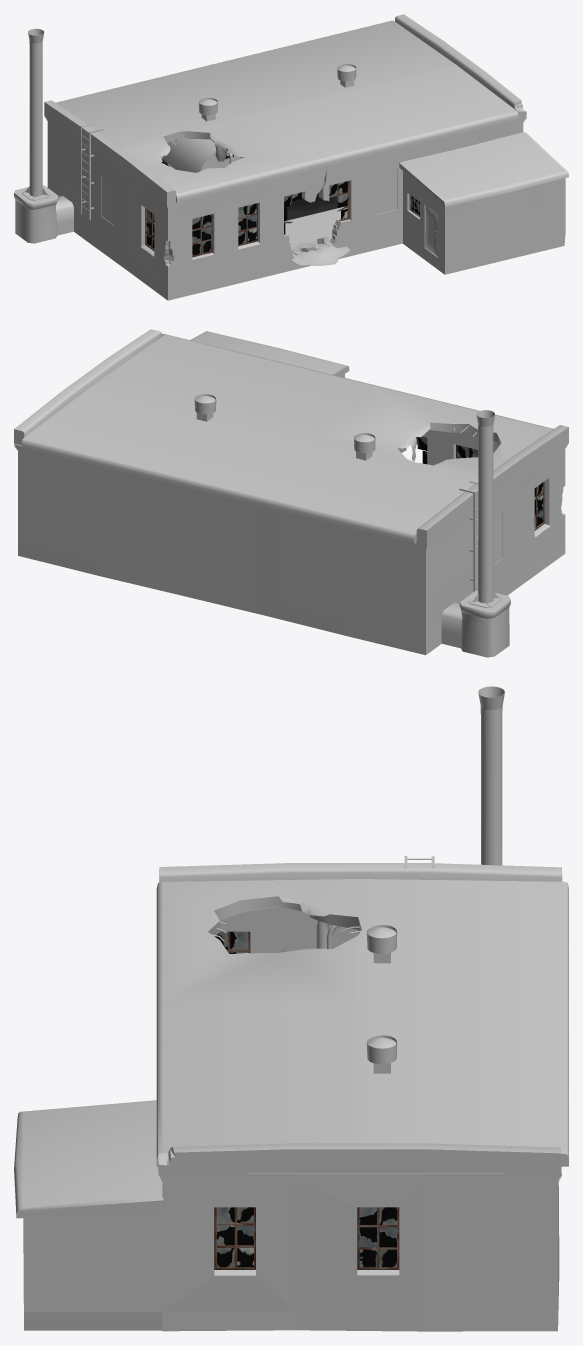
The model's file is Boylernaya.FBX.
3 views of the same model, one above another, from view 1: azimuth 30°, elevation 25°; view 2: azimuth 150°, elevation 25°; view 3: azimuth 270°, elevation 25° (orthographic). The views are drawn at different scales.
Parts seen in each view (by area): view 1: Boyler_roof, Boyler_ext, Boyler_in, Win_01, brick_trash_01, Decal_03, Decal_02, Decal_dark, glass_07, glass_06, Decal_04, Decal_01 (+3 smaller); view 2: Boyler_ext, Boyler_roof, Boyler_in, Decal_04; view 3: Boyler_roof, Boyler_ext, Boyler_in, glass_03, glass_00, Win_01.
Boxes of the visible parts, x1=… form: Boyler_roof: x1=56, y1=20, x2=568, y2=206; Boyler_ext: x1=14, y1=14, x2=565, y2=300; Boyler_in: x1=162, y1=138, x2=346, y2=248; Win_01: x1=145, y1=181, x2=419, y2=257; brick_trash_01: x1=291, y1=239, x2=349, y2=265; Decal_03: x1=160, y1=228, x2=183, y2=288; Decal_02: x1=277, y1=221, x2=348, y2=273; Decal_dark: x1=284, y1=193, x2=337, y2=220; glass_07: x1=192, y1=214, x2=211, y2=255; glass_06: x1=238, y1=203, x2=256, y2=244; Decal_04: x1=58, y1=175, x2=85, y2=220; Decal_01: x1=439, y1=184, x2=542, y2=215; Boyler_ext: x1=14, y1=329, x2=568, y2=657; Boyler_roof: x1=21, y1=331, x2=553, y2=543; Boyler_in: x1=422, y1=430, x2=498, y2=465; Decal_04: x1=438, y1=571, x2=470, y2=620; Boyler_roof: x1=14, y1=879, x2=568, y2=1218; Boyler_ext: x1=23, y1=686, x2=562, y2=1331; Boyler_in: x1=220, y1=906, x2=358, y2=953; glass_03: x1=359, y1=1207, x2=397, y2=1267; glass_00: x1=217, y1=1207, x2=253, y2=1267; Win_01: x1=214, y1=931, x2=399, y2=1269.
Bounding box in the file's own units: 20.77 × 9.96 × 15.11.
